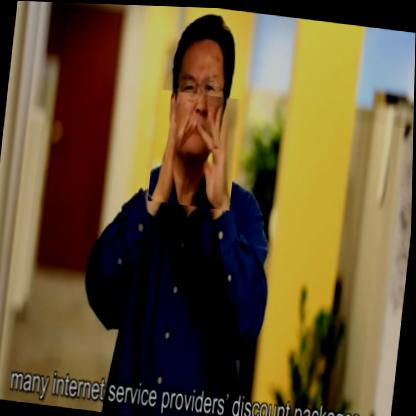Internet: (148, 88, 242, 210)
